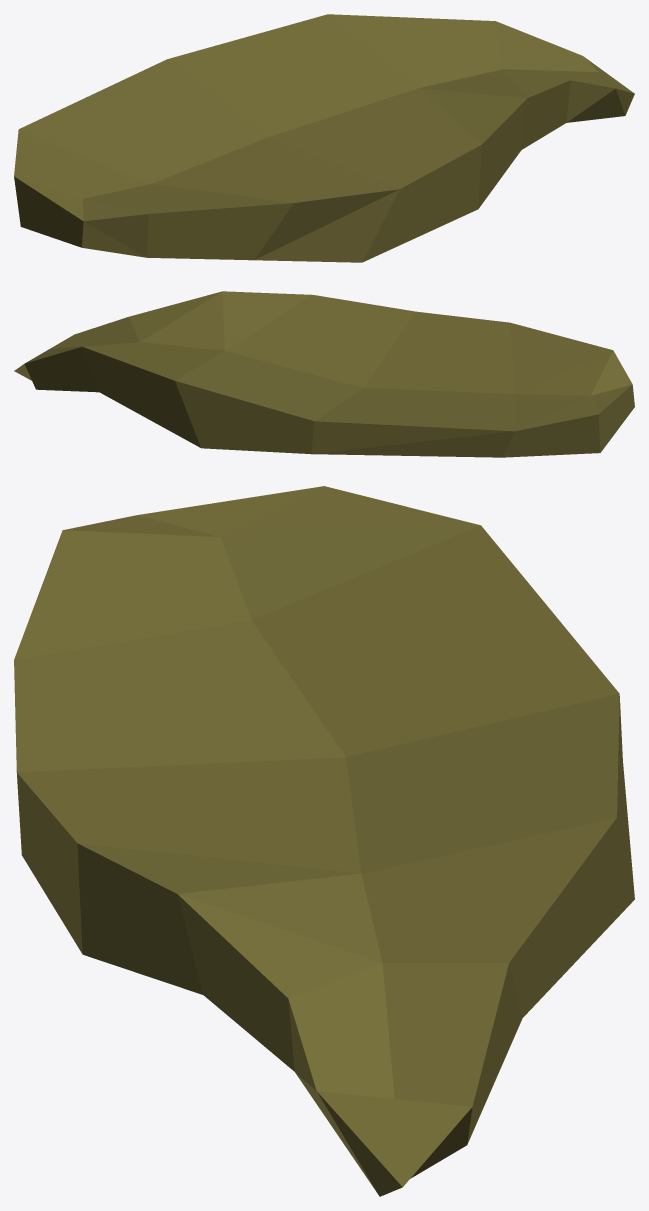
The model's file is EA_M_Env_Leaf_01a.fbx.
3 renders of one model, top to bottom at view 1: azimuth 30°, elevation 25°; view 2: azimuth 150°, elevation 25°; view 3: azimuth 270°, elevation 25°, orthographic. The views are drawn at different scales.
Visible parts, largest first — view 1: EA_M_Env_Leaf_01a_LOD0; view 2: EA_M_Env_Leaf_01a_LOD0; view 3: EA_M_Env_Leaf_01a_LOD0.
Boxes of the visible parts, left/top/right/bottom form: EA_M_Env_Leaf_01a_LOD0: left=14, top=14, right=634, bottom=262; EA_M_Env_Leaf_01a_LOD0: left=14, top=291, right=634, bottom=457; EA_M_Env_Leaf_01a_LOD0: left=14, top=486, right=634, bottom=1196.
Size of what is drawn, in the model's own units: 0.4162 by 0.0666 by 0.2009.
